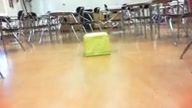cube: (83, 32, 111, 57)
